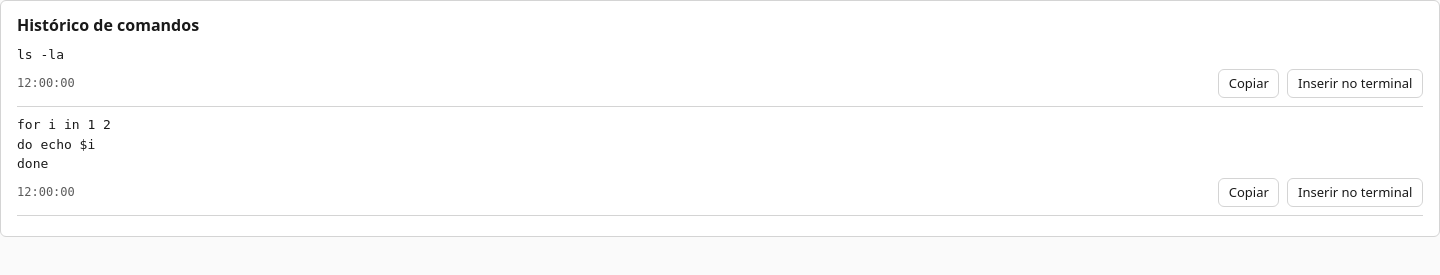
Test: history panel › copying and inserting › hands the command to the terminal and never runs it
Click the 1st button "Inserir no terminal".
click(1355, 83)  # box [1288, 68, 1423, 98]
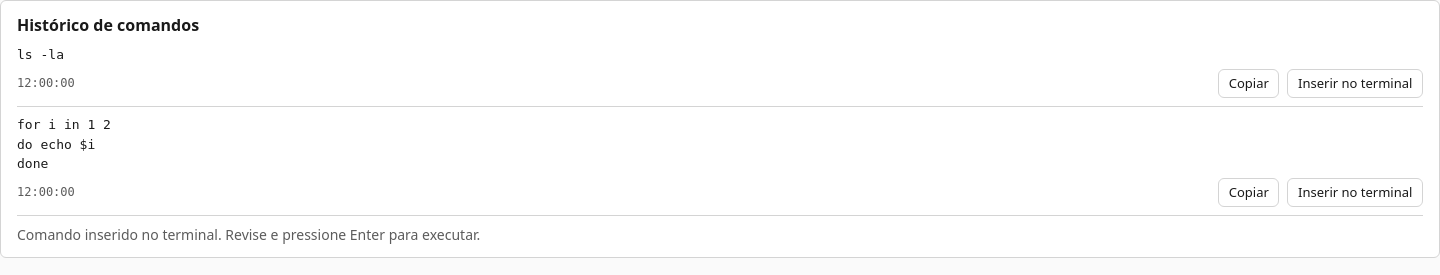
Now the text "Revise e pressione Enter para executar" is shown, box [17, 225, 480, 244]
Click the 2nd button "Inserir no terminal".
click(1355, 192)  # box [1288, 178, 1423, 207]
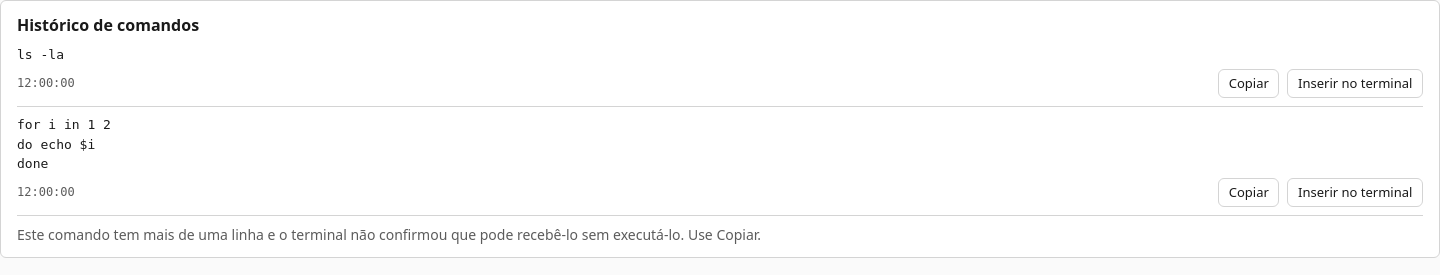
Now the text "mais de uma linha" is shown, box [17, 225, 761, 244]
